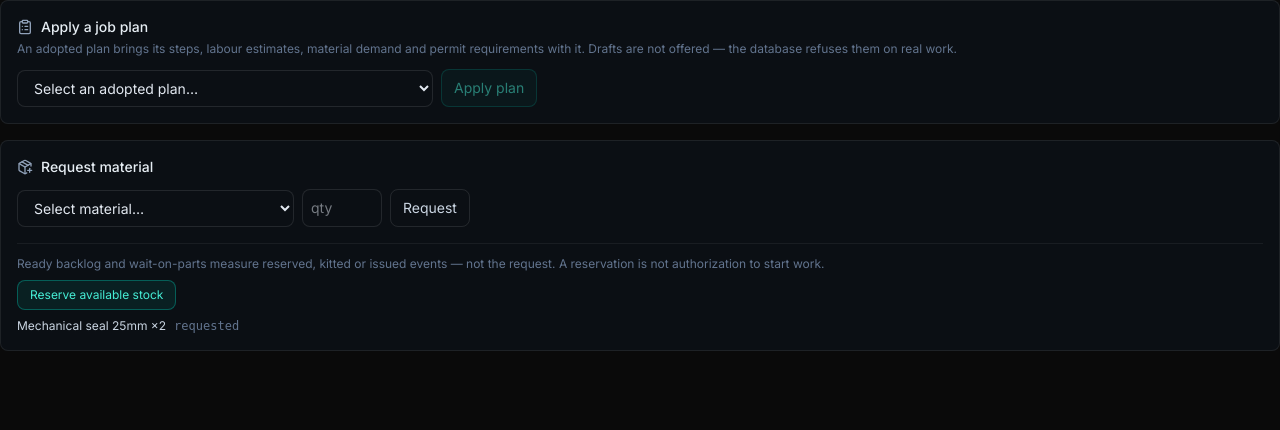
Scenario: WorkOrderPlanningPanel › reserves through reserve_wo_materials and reports lines without stock honestly
Click the button "Reserve available stock". click: [97, 295]
box: [17,280,176,310]
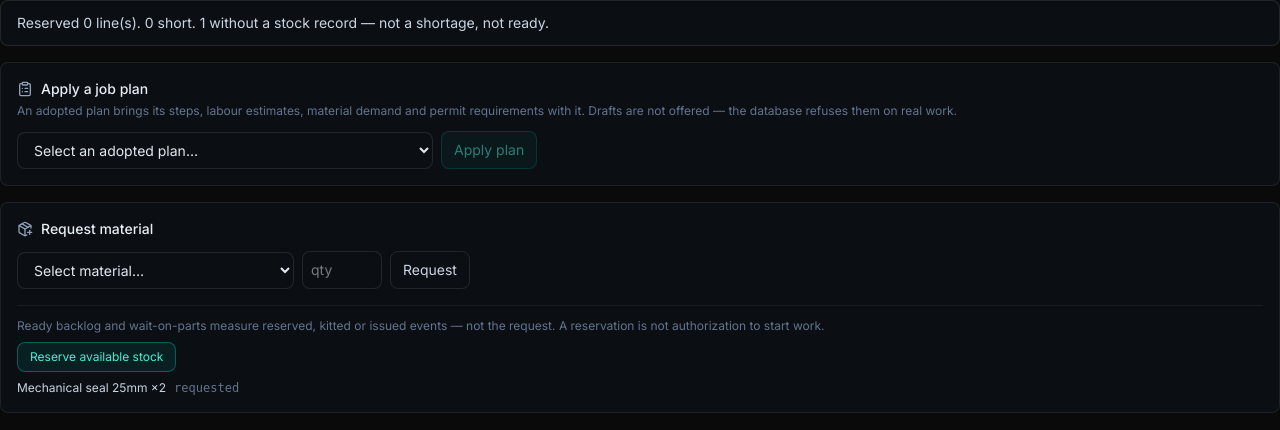
Expected: the text "without a stock record — not a shortage, not ready" is shown, [17,14,549,31]
